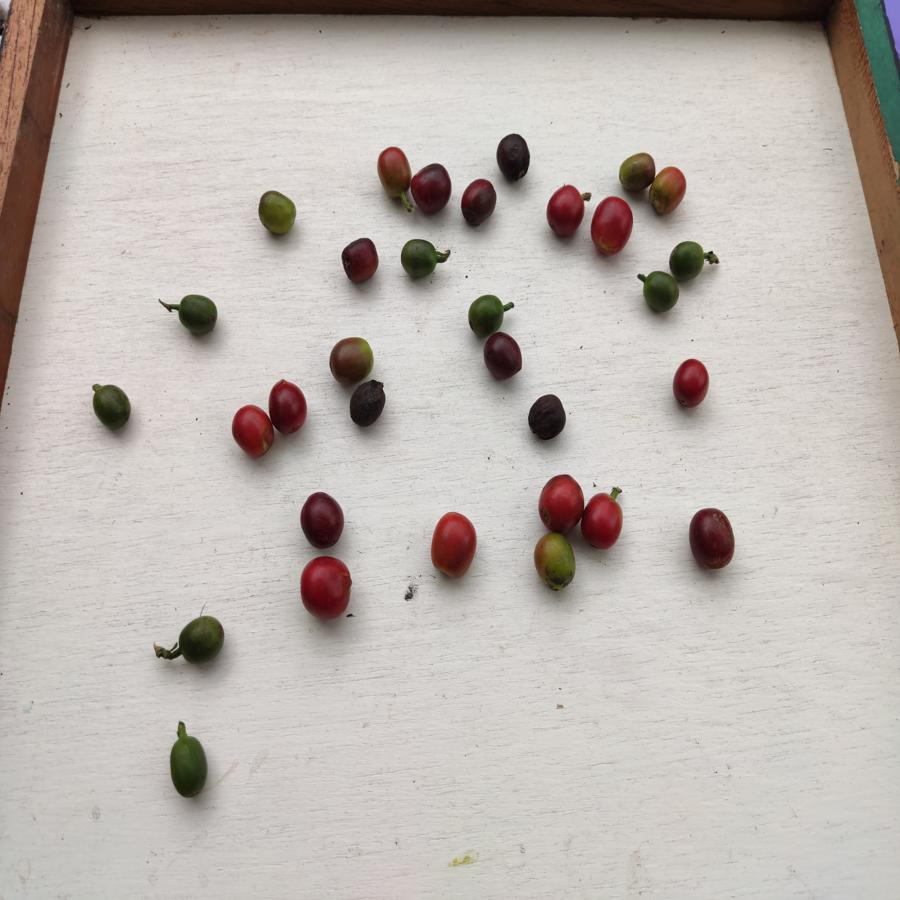Inmaduro: (165, 729, 212, 801), (175, 612, 226, 665), (87, 384, 135, 432), (172, 293, 220, 334), (399, 238, 443, 282), (641, 271, 679, 315), (671, 237, 706, 283), (467, 294, 506, 334)
Maduro: (300, 555, 355, 624), (428, 510, 478, 579), (588, 195, 633, 258), (226, 404, 275, 461), (538, 472, 583, 532), (584, 488, 625, 552), (268, 380, 309, 434), (673, 356, 711, 414), (545, 185, 584, 239)
Pinton: (532, 532, 578, 593), (326, 335, 378, 382), (255, 189, 301, 240), (373, 142, 409, 201), (649, 164, 688, 217), (616, 151, 655, 192)
Sobremaduro: (686, 508, 739, 571), (297, 491, 350, 547), (412, 161, 454, 215), (482, 332, 525, 382), (339, 236, 381, 286), (526, 393, 568, 441), (459, 175, 496, 227), (350, 379, 388, 428), (495, 132, 531, 182)
